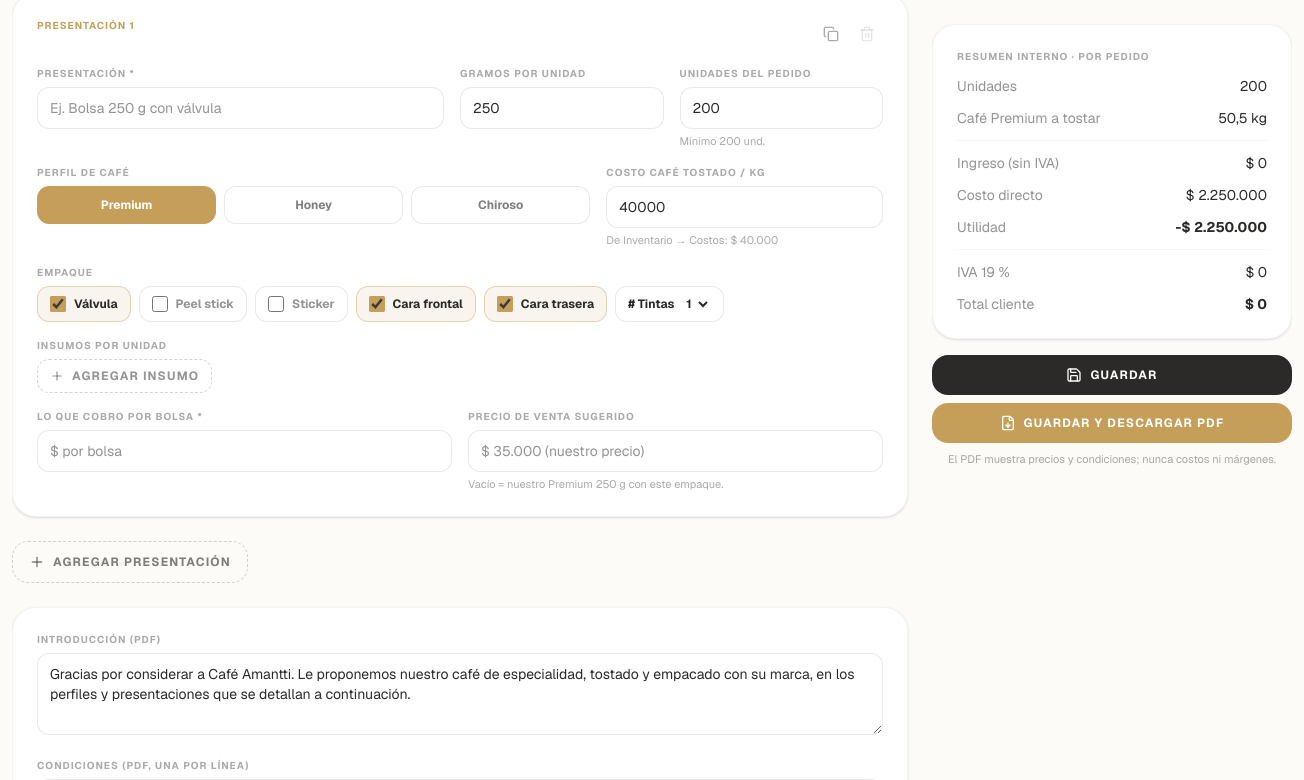
Test case: MaquilaForm prices › warns when the price per bag is below cost
(page scrolled)
In the field named "Lo que cobro por bolsa": (244, 450) 37,430 -> 452,472, type "5000"
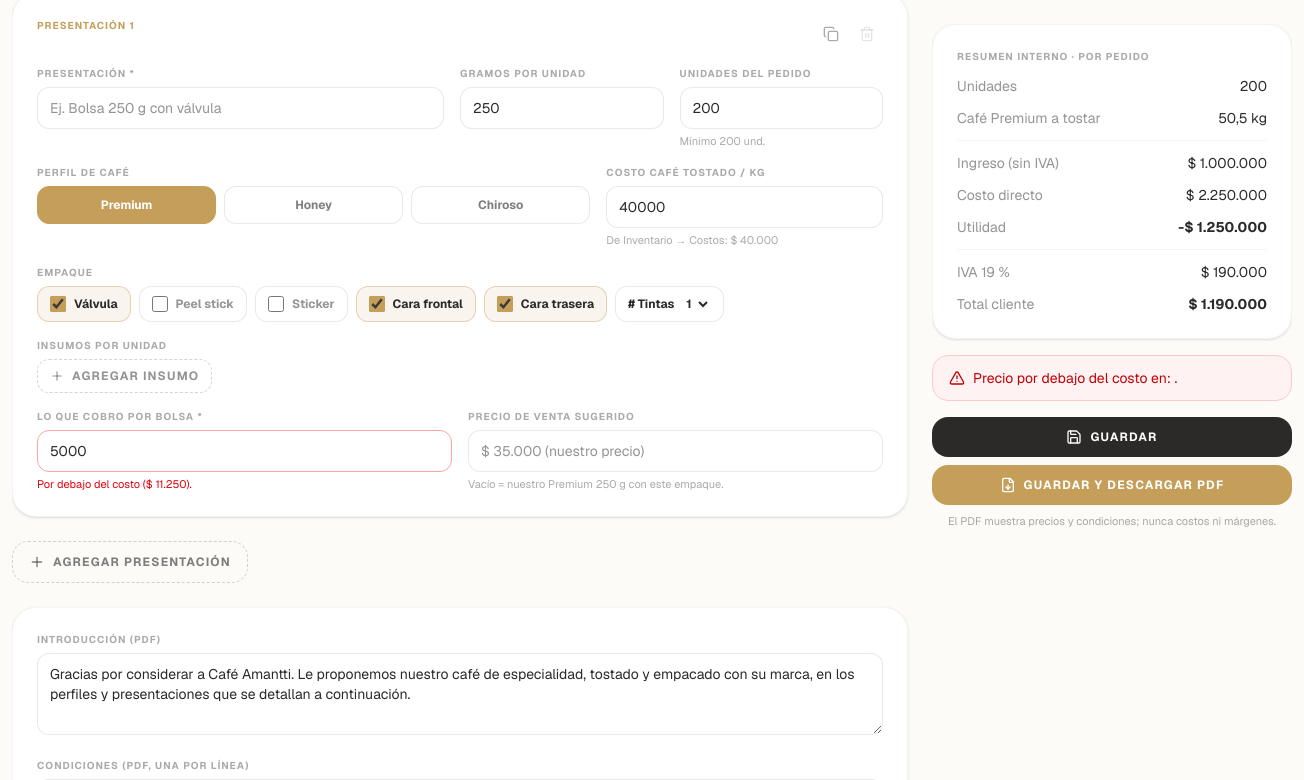
Result: the text "Por debajo del costo ($ 11.250)." is shown at 37,476 -> 192,490
